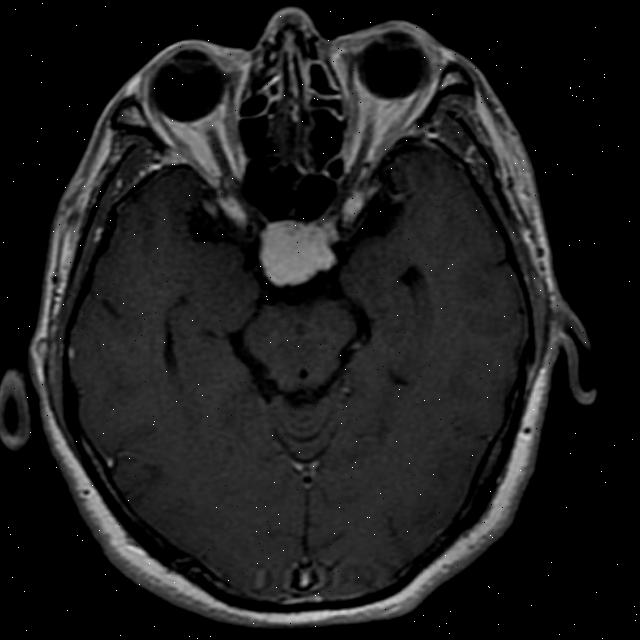Meningioma: (254, 216, 342, 289)
